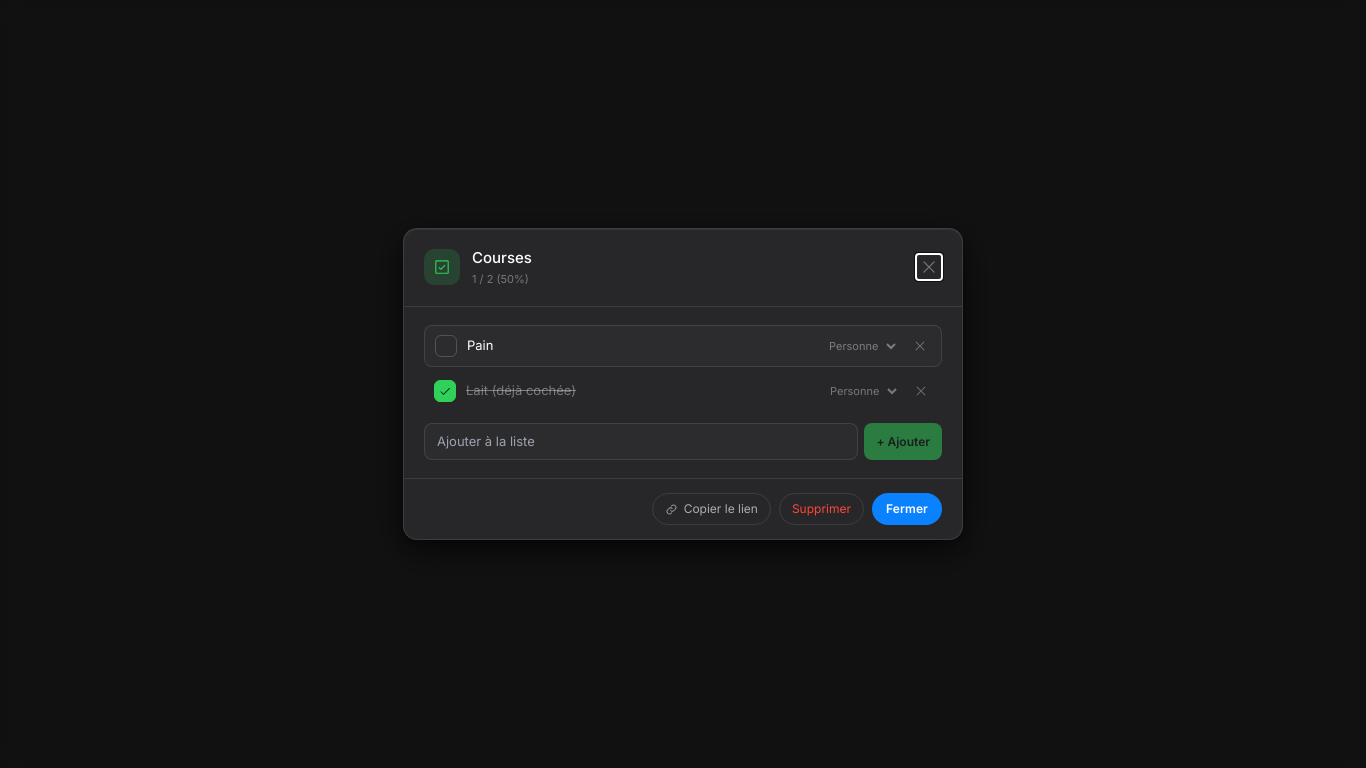
Test: TodoListModal — assigner quelqu’un qui n’est plus membre › affiche qui a quitté le groupe et rafraîchit la liste des membres
The width and height of the screenshot is (1366, 768).
Select "Léa" in the dropdown named "Assigner « Pain » à" at point(860, 346), box top-left (821, 334), bottom-right (899, 358)
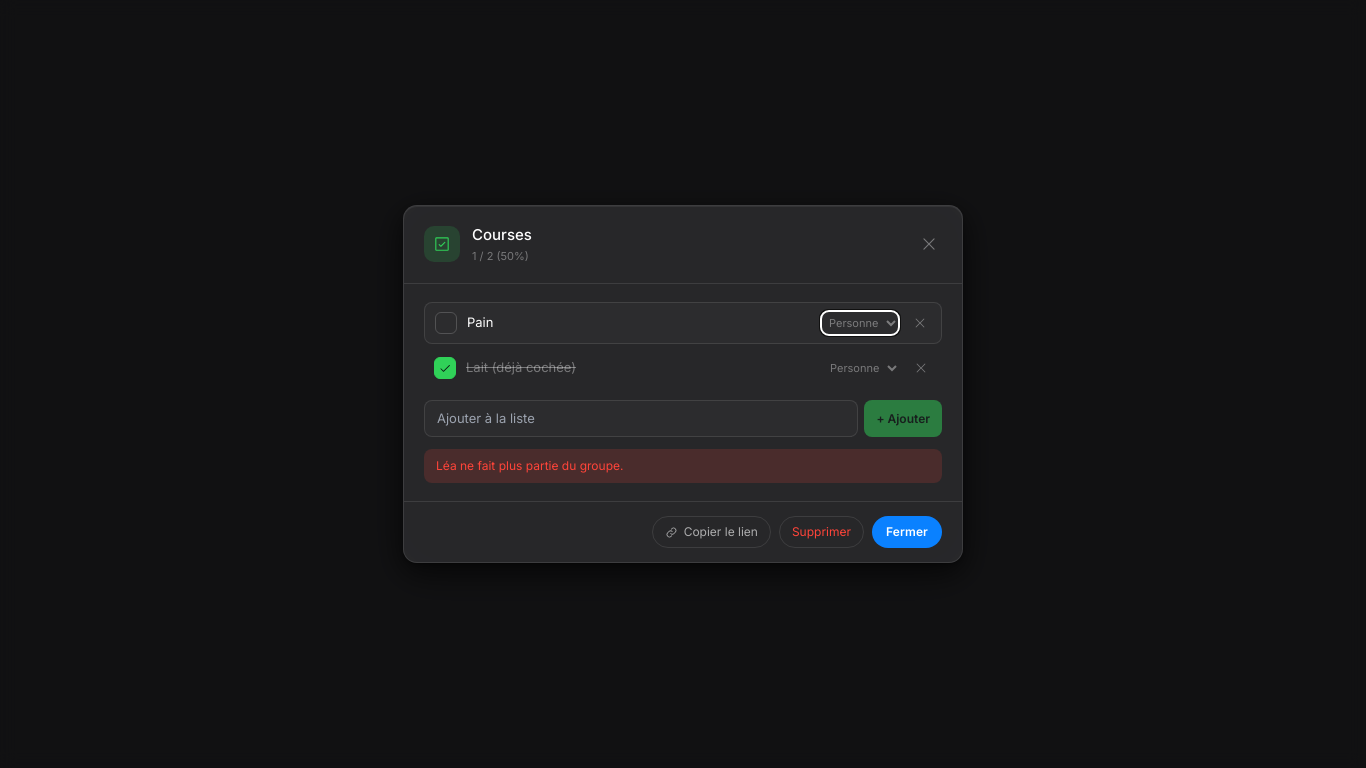
Expected: the text "Léa ne fait plus partie du groupe." is shown, top-left (424, 449), bottom-right (942, 483)
